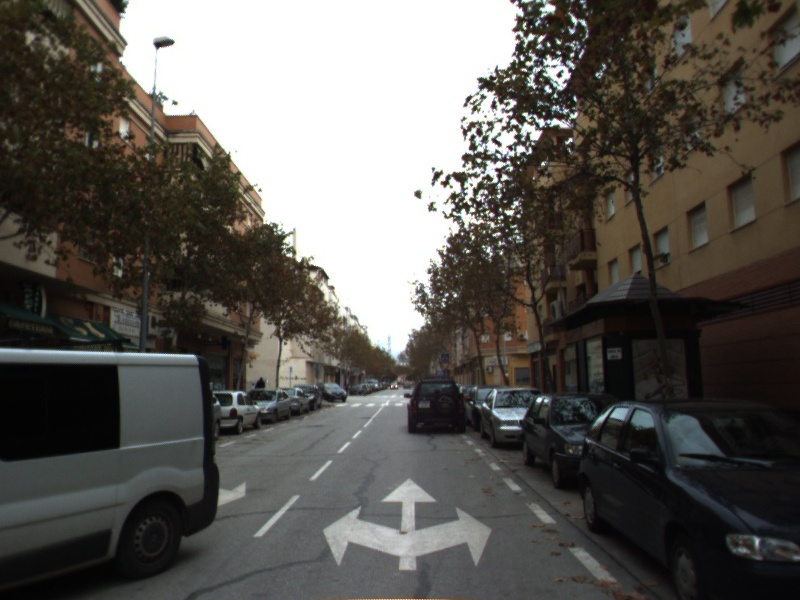STRAIGHT_LEFT_RIGHT: (319, 473, 496, 573)
